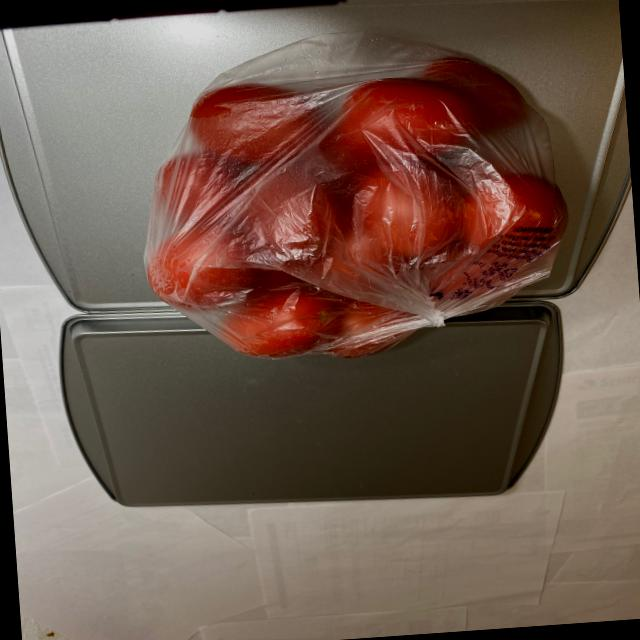tomato: (135, 43, 578, 372)
